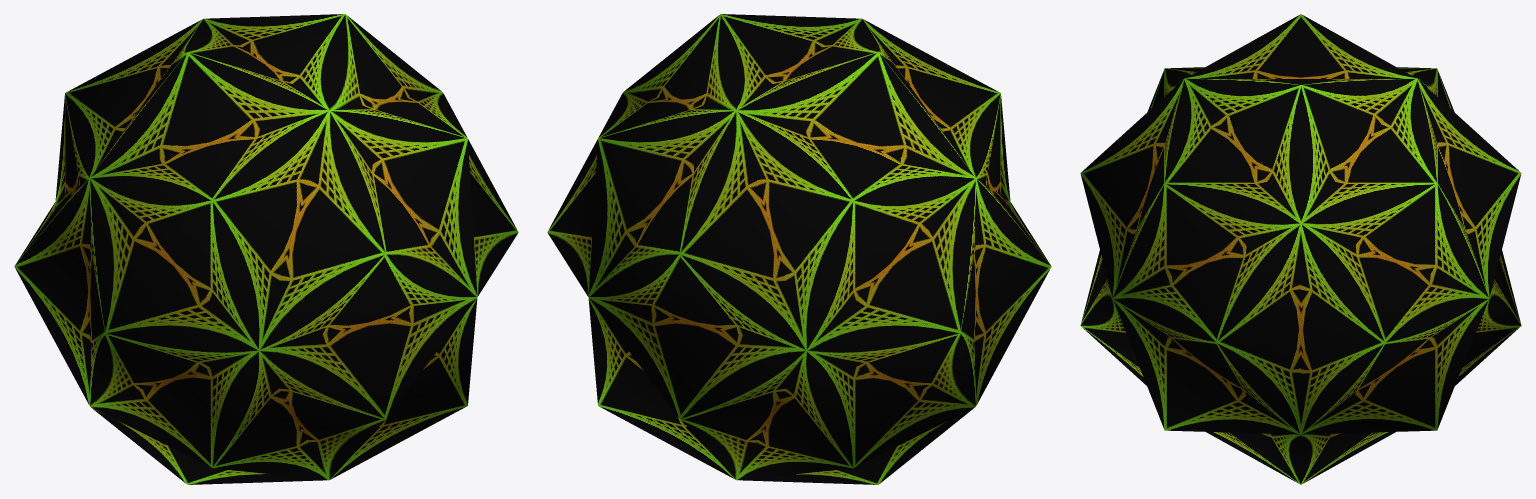
Rendered from SmallTriambicIcosahedron45.gltf.
The picture shows the model from 3 angles, left to right: view 1: azimuth 30°, elevation 25°; view 2: azimuth 150°, elevation 25°; view 3: azimuth 270°, elevation 25°; orthographic projection. The views are drawn at different scales.
Parts seen in each view (by area): view 1: SmallTriambicIcosahedron; view 2: SmallTriambicIcosahedron; view 3: SmallTriambicIcosahedron.
Part boxes in pixels (x1,y1,x2,y2): SmallTriambicIcosahedron: (14,14,518,484); SmallTriambicIcosahedron: (547,14,1051,484); SmallTriambicIcosahedron: (1080,14,1521,484).
Bounding box in the file's own units: 1.45 × 1.45 × 1.45.
Materials: 1 (1 with a texture image).
